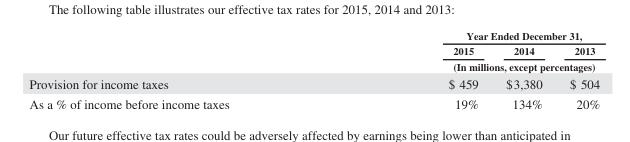table: (28, 29, 599, 111)
table column: (28, 29, 338, 111), (338, 29, 491, 111), (491, 29, 555, 111), (555, 29, 599, 111)
table column header: (28, 29, 599, 74)
table row: (28, 74, 599, 93), (28, 93, 599, 111), (28, 42, 599, 58), (28, 58, 599, 74), (28, 29, 599, 42)
table spanning cell: (338, 58, 599, 74), (338, 29, 599, 42)
